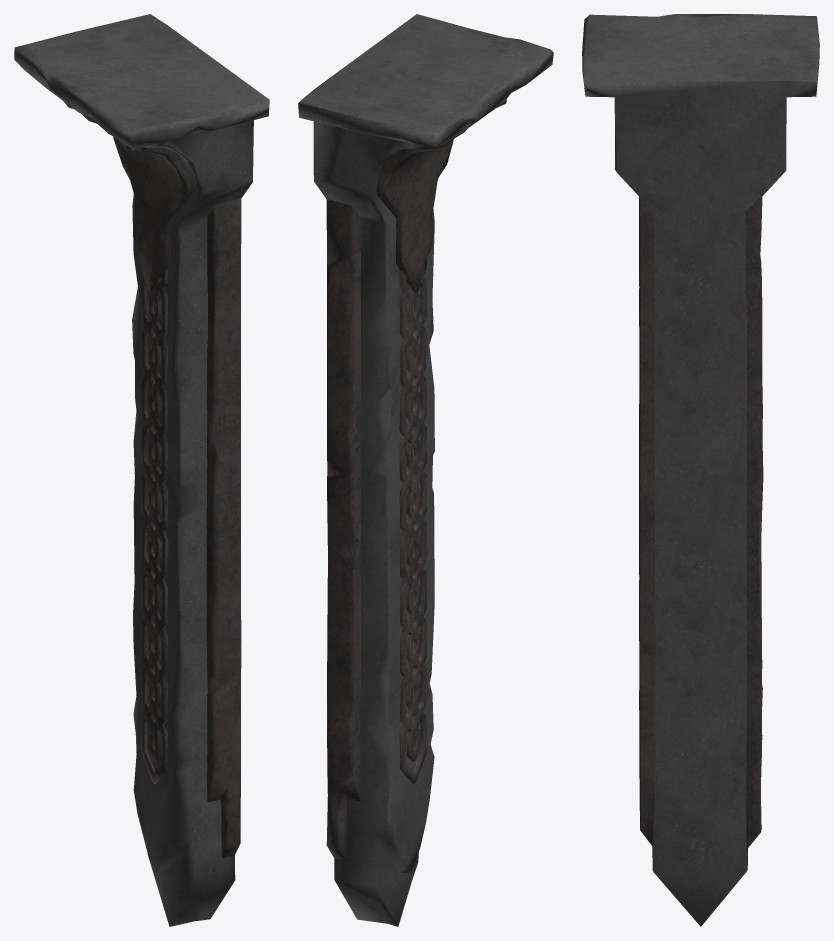
Rendered from SM_BuildingPillar.fbx.
The picture shows the model from 3 angles, left to right: view 1: azimuth 30°, elevation 25°; view 2: azimuth 150°, elevation 25°; view 3: azimuth 270°, elevation 25°; orthographic projection.
Visible parts, largest first — view 1: SM_BuildingPillar_LOD0; view 2: SM_BuildingPillar_LOD0; view 3: SM_BuildingPillar_LOD0.
Part boxes in pixels (left/top/right/bottom): SM_BuildingPillar_LOD0: left=14, top=14, right=269, bottom=926; SM_BuildingPillar_LOD0: left=298, top=14, right=553, bottom=926; SM_BuildingPillar_LOD0: left=582, top=14, right=819, bottom=926.
Size of the model in its own units: 102 by 153 by 599.
Materials: 2 (2 with a texture image).
